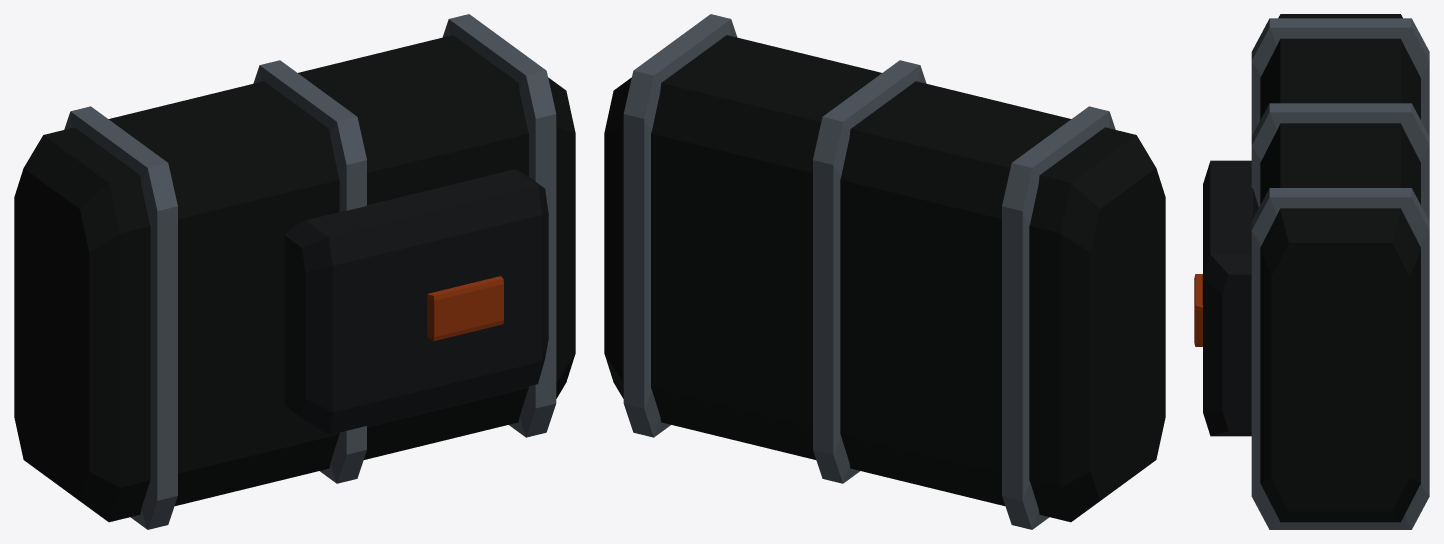
Rendered from plastic_explosive_1995_lod0.obj.
3 renders of one model, left to right at view 1: azimuth 30°, elevation 25°; view 2: azimuth 150°, elevation 25°; view 3: azimuth 270°, elevation 25°, orthographic. The views are drawn at different scales.
Visible parts, largest first — view 1: sealed_charge, timer_module, retaining_band_0, retaining_band_2, retaining_band_1, status_mark; view 2: sealed_charge, retaining_band_2, retaining_band_1, retaining_band_0; view 3: sealed_charge, timer_module, retaining_band_2, retaining_band_0, retaining_band_1, status_mark.
Part boxes in pixels (bbox=[...]): sealed_charge: bbox=[14, 35, 575, 522]; timer_module: bbox=[284, 169, 548, 434]; retaining_band_0: bbox=[64, 106, 177, 529]; retaining_band_2: bbox=[442, 14, 556, 437]; retaining_band_1: bbox=[253, 60, 366, 483]; status_mark: bbox=[427, 276, 503, 340]; sealed_charge: bbox=[604, 35, 1165, 522]; retaining_band_2: bbox=[623, 14, 737, 437]; retaining_band_1: bbox=[813, 60, 926, 483]; retaining_band_0: bbox=[1002, 106, 1115, 529]; sealed_charge: bbox=[1260, 14, 1420, 522]; timer_module: bbox=[1203, 160, 1258, 436]; retaining_band_2: bbox=[1251, 188, 1429, 529]; retaining_band_0: bbox=[1251, 18, 1429, 135]; retaining_band_1: bbox=[1251, 103, 1429, 220]; status_mark: bbox=[1194, 274, 1202, 346].
Size of the model in its own units: 18 by 12.8 by 8.2.
